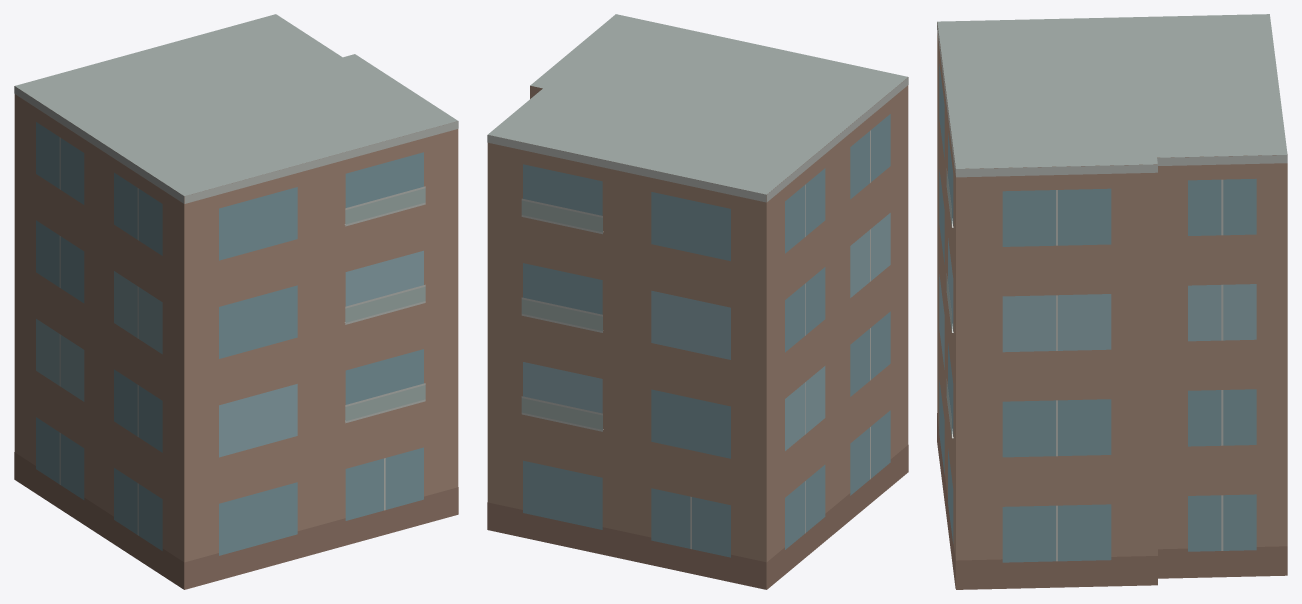
Rendered from survey-upis-32703190.glb.
3 views of the same model, side by side, from view 1: azimuth 30°, elevation 25°; view 2: azimuth 150°, elevation 25°; view 3: azimuth 270°, elevation 25° (orthographic). The views are drawn at different scales.
Visible parts, largest first — view 1: survey-upis-32703190.tmp; view 2: survey-upis-32703190.tmp; view 3: survey-upis-32703190.tmp.
Part boxes in pixels (<box>): survey-upis-32703190.tmp: <box>14,14,458,589</box>; survey-upis-32703190.tmp: <box>487,14,908,589</box>; survey-upis-32703190.tmp: <box>937,14,1287,589</box>.
Size of the model in its own units: 9.64 by 12.2 by 9.21.
